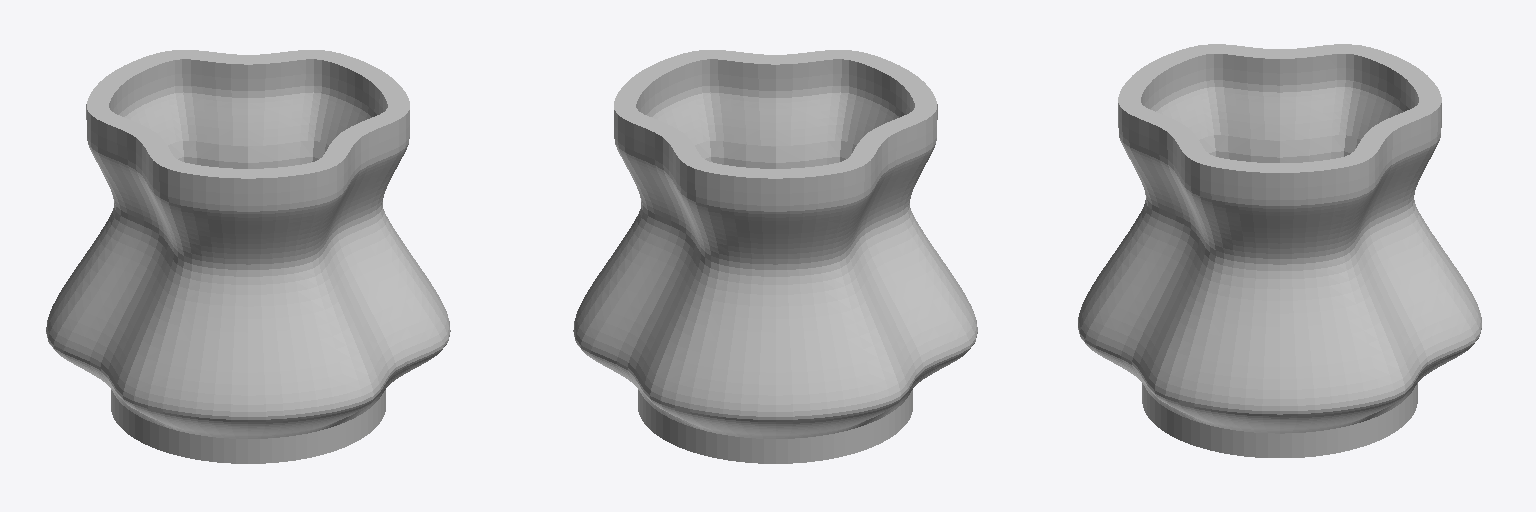
The model's file is Jarron2.obj.
3 views of the same model, side by side, from view 1: azimuth 30°, elevation 25°; view 2: azimuth 150°, elevation 25°; view 3: azimuth 270°, elevation 25° (orthographic).
Visible parts, largest first — view 1: vaza:Object002, vaza:Line002; view 2: vaza:Object002, vaza:Line002; view 3: vaza:Object002, vaza:Line002.
Boxes of the visible parts, box(x1,y1,x2,y2) form: vaza:Object002: box(46, 50, 450, 463); vaza:Line002: box(168, 141, 328, 168); vaza:Object002: box(573, 50, 977, 463); vaza:Line002: box(695, 141, 855, 168); vaza:Object002: box(1078, 44, 1481, 457); vaza:Line002: box(1199, 135, 1360, 162).
Size of the model in its own units: 2.62 by 2.21 by 2.73.